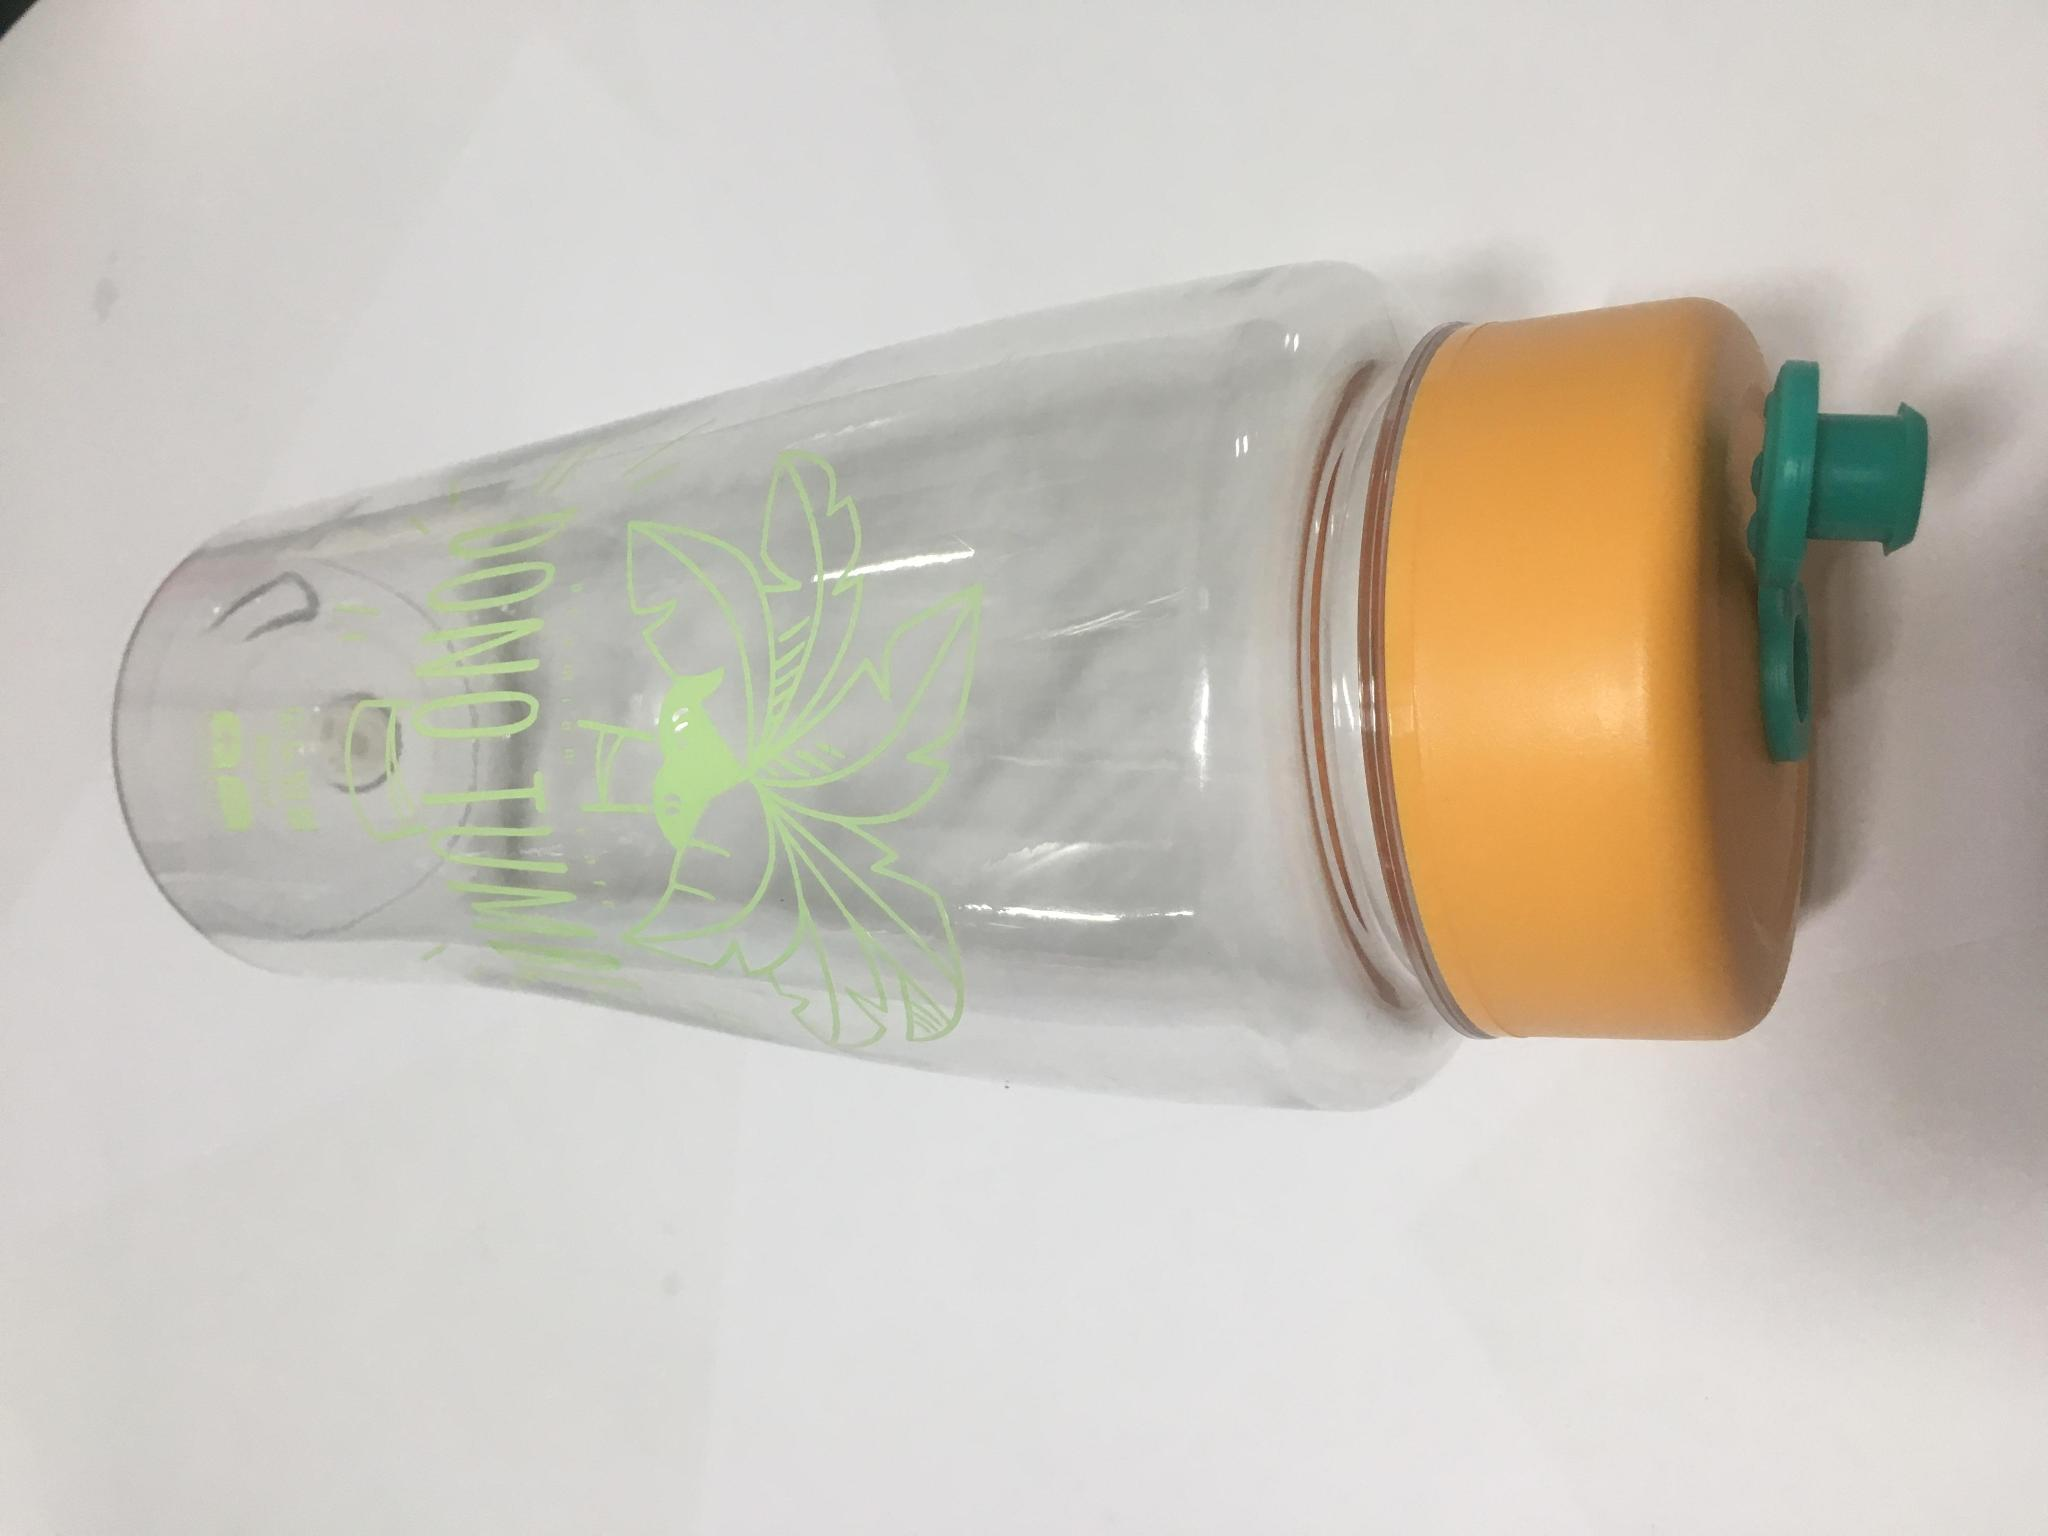bottle: (87, 265, 1927, 1121)
